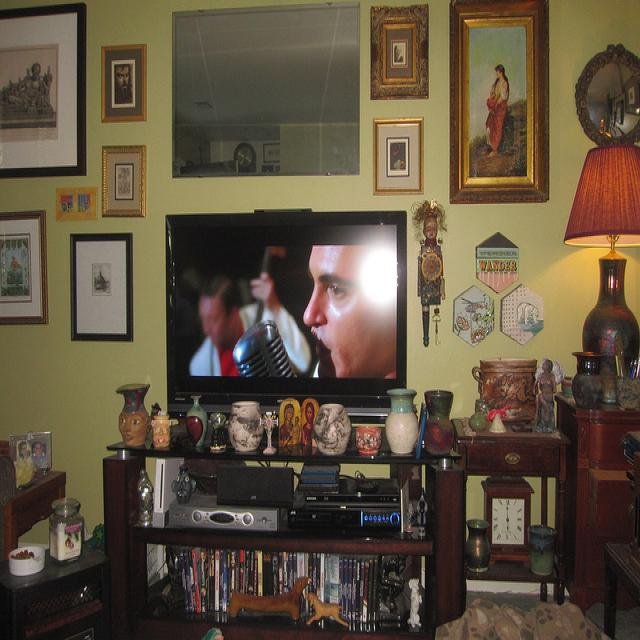book: (142, 545, 433, 631), (207, 548, 216, 612), (307, 552, 313, 619), (357, 563, 361, 632), (258, 551, 263, 597)
bottle: (49, 498, 84, 563)
bowl: (9, 545, 45, 577)
clock: (481, 476, 536, 568), (421, 254, 441, 280), (236, 146, 253, 167)
cup: (354, 426, 383, 458), (153, 416, 170, 448)
person: (187, 272, 312, 378), (303, 244, 397, 378)
tv: (165, 208, 410, 413)
vase: (115, 382, 152, 445), (571, 350, 607, 408), (423, 389, 454, 455), (386, 388, 417, 454), (313, 404, 352, 456), (227, 400, 264, 453), (465, 517, 491, 572), (187, 398, 206, 447), (355, 426, 382, 456), (210, 413, 227, 450), (152, 415, 171, 447)
